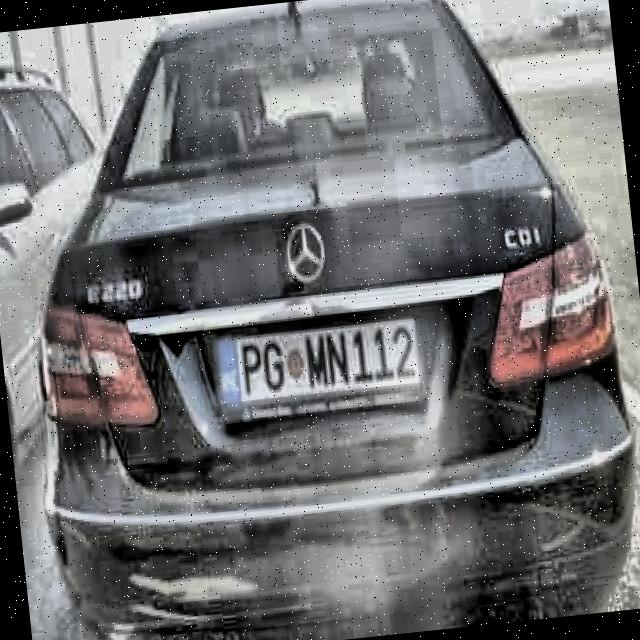license_plate: (198, 304, 432, 431)
